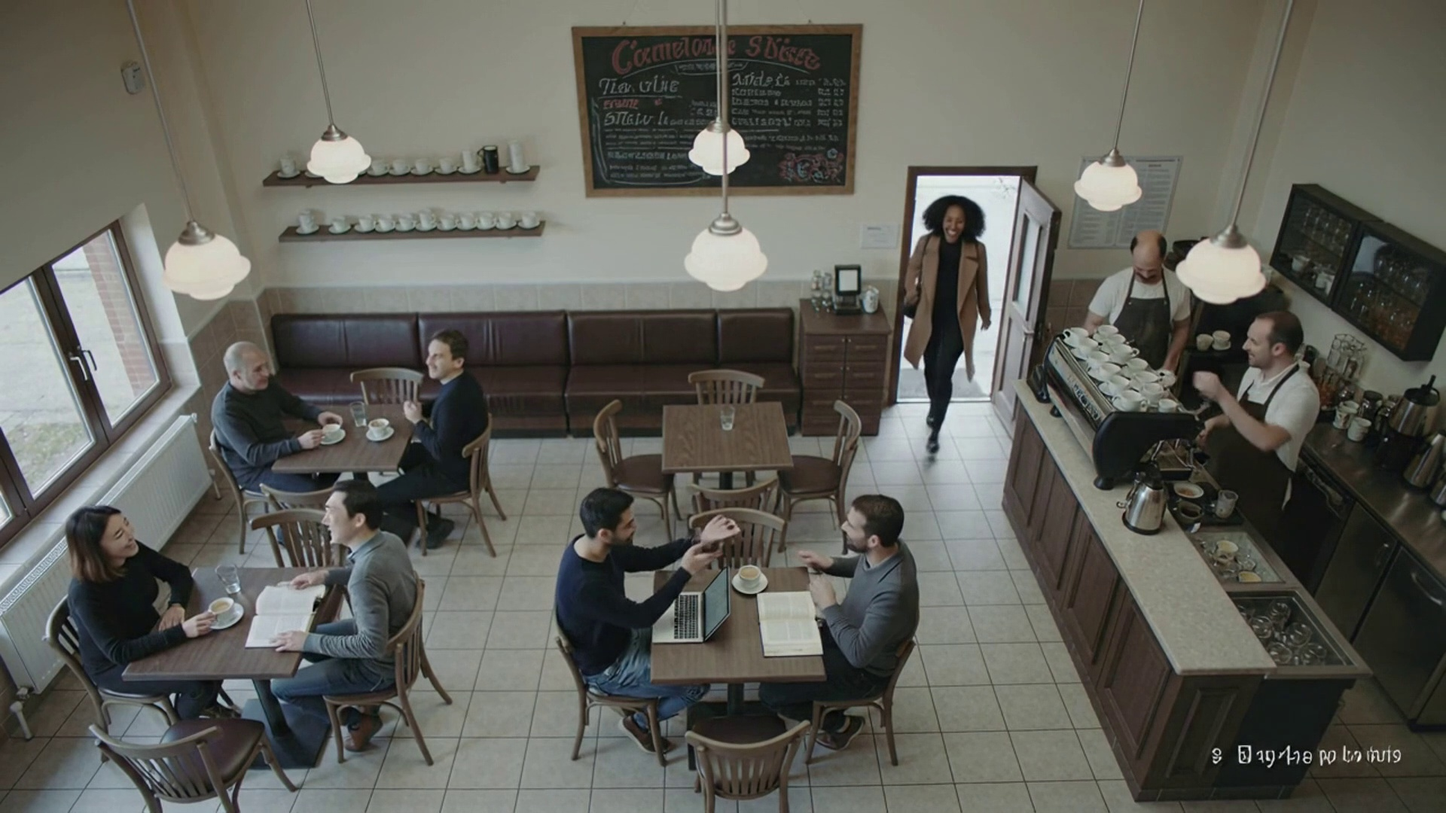client: (525, 465, 653, 745), (42, 493, 165, 737), (903, 180, 993, 471), (320, 481, 422, 733), (826, 490, 919, 733), (420, 334, 494, 534), (210, 338, 298, 497)
employé: (1229, 303, 1316, 511), (1119, 219, 1185, 348)
machine: (1043, 311, 1210, 528)
tables: (665, 527, 830, 754), (180, 542, 320, 724), (657, 355, 799, 500), (301, 387, 431, 486)
tables_vides: (642, 369, 811, 513)
